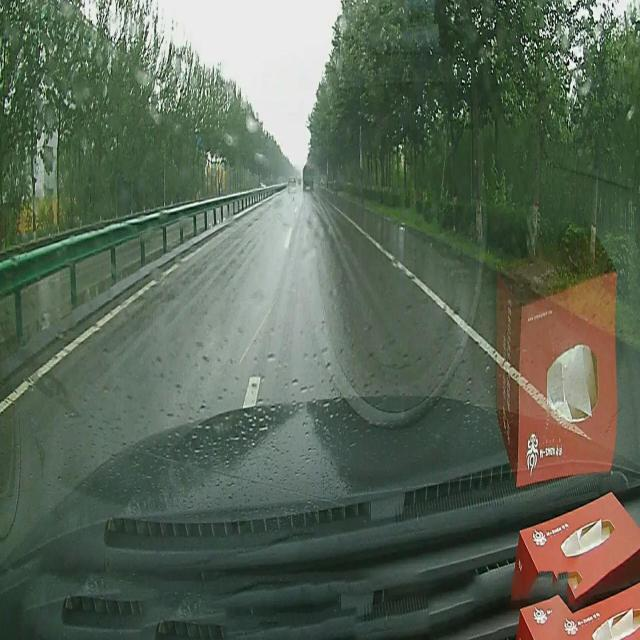car: (288, 176, 296, 191)
